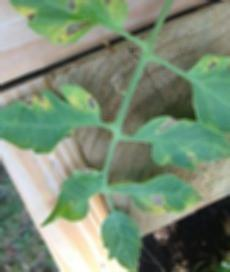Tomato Early blight leaf: (5, 84, 104, 150), (130, 115, 230, 171), (8, 0, 126, 45), (36, 164, 104, 236), (114, 174, 209, 213)
Tomato leaf: (97, 210, 144, 271)
